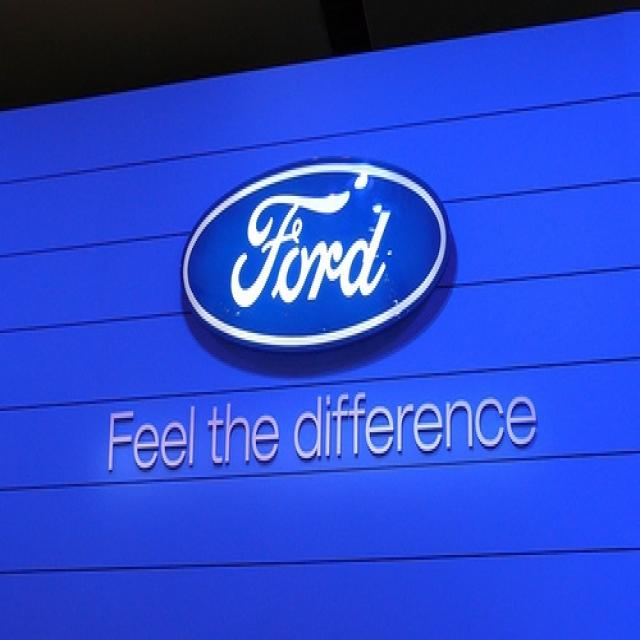ford: (183, 162, 448, 348)
